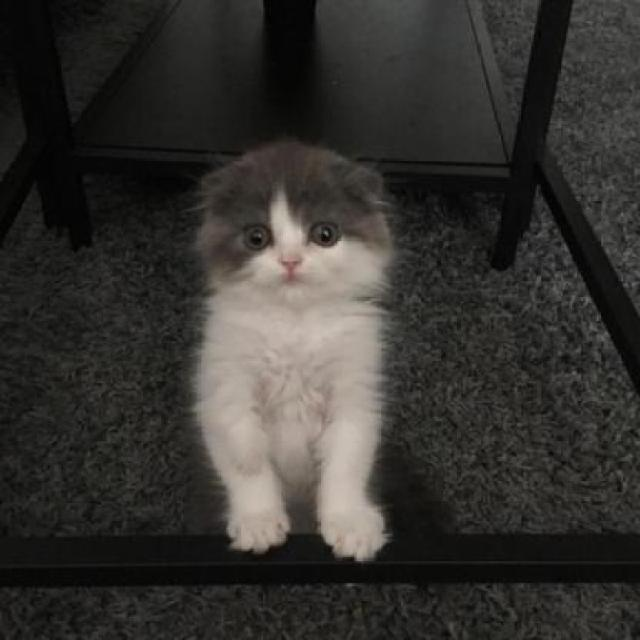cat: (187, 141, 430, 568)
